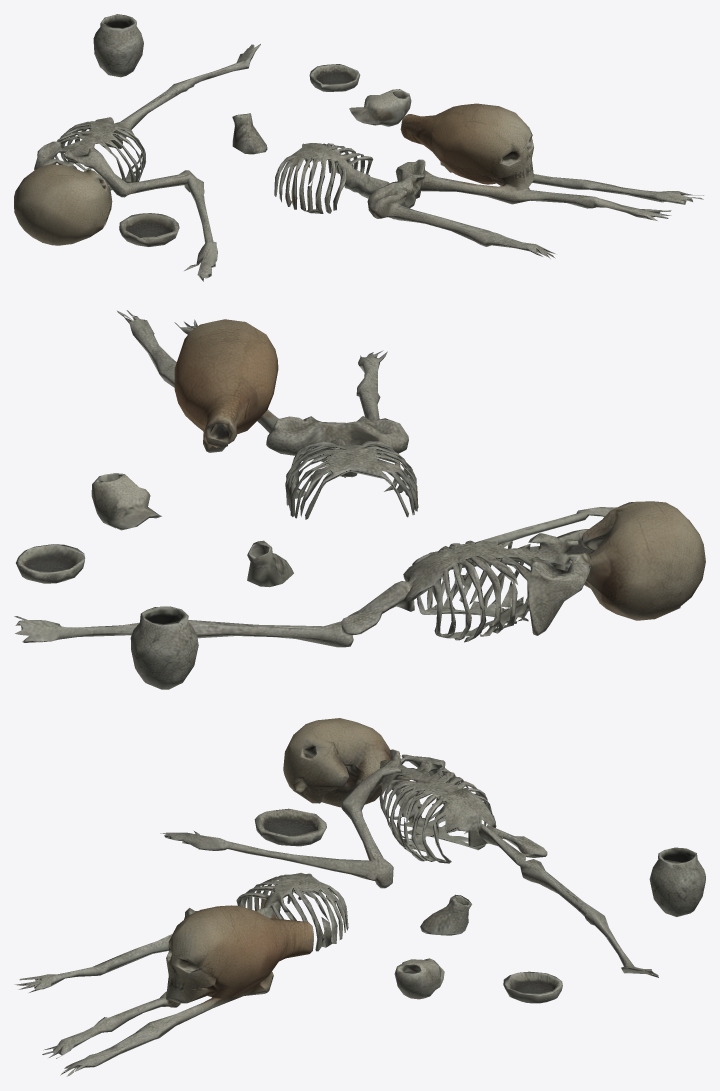
The model's file is remains.glb.
3 renders of one model, top to bottom at view 1: azimuth 30°, elevation 25°; view 2: azimuth 150°, elevation 25°; view 3: azimuth 270°, elevation 25°, orthographic. The views are drawn at different scales.
Size of the model in its own units: 1.89 by 0.2751 by 1.82.
1 material, 1 textured.
